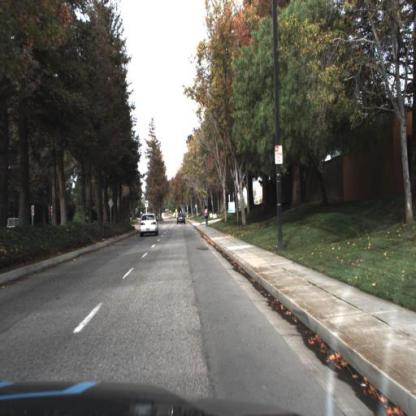biker: (204, 204, 212, 227), (205, 206, 210, 227)
car: (140, 214, 160, 236), (178, 213, 188, 225)
